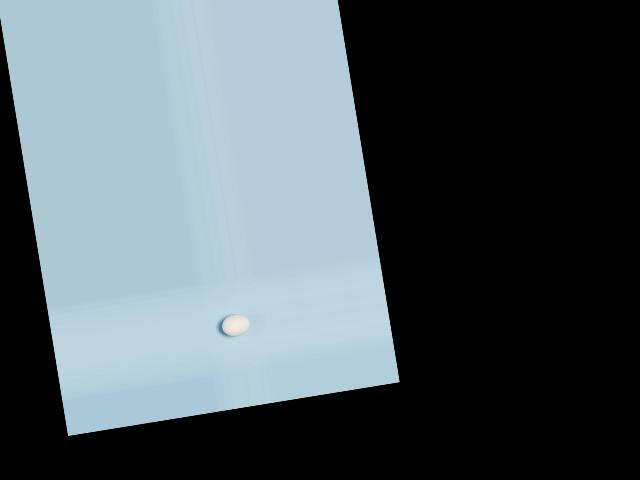egg: (220, 312, 251, 337)
